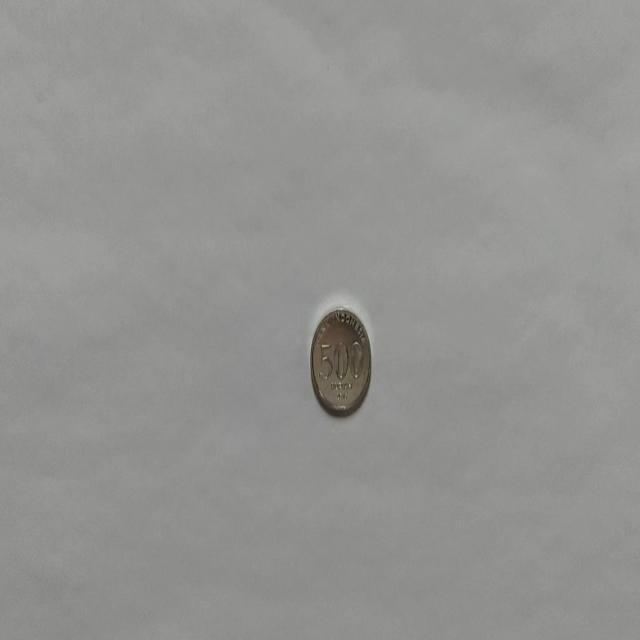lima ratus rupiah: (309, 305, 372, 417)
